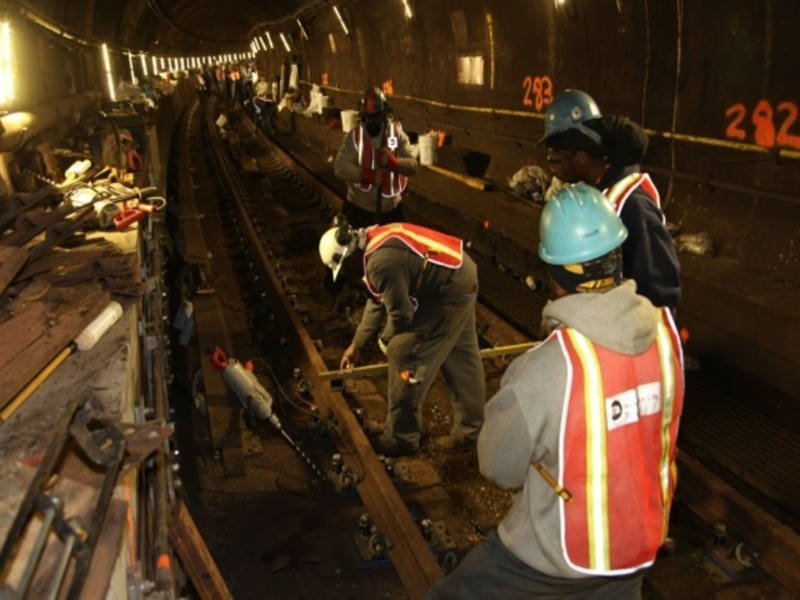baret: (540, 183, 632, 270), (316, 225, 361, 282)
